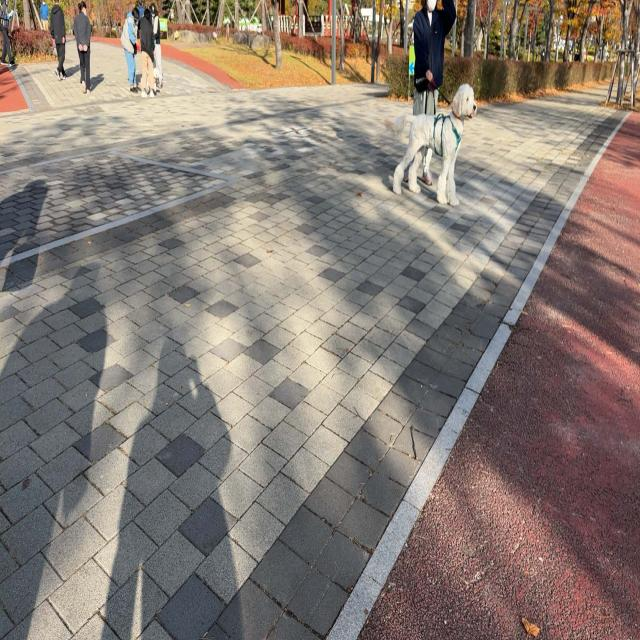Leashed_Dog: (385, 69, 478, 206)
